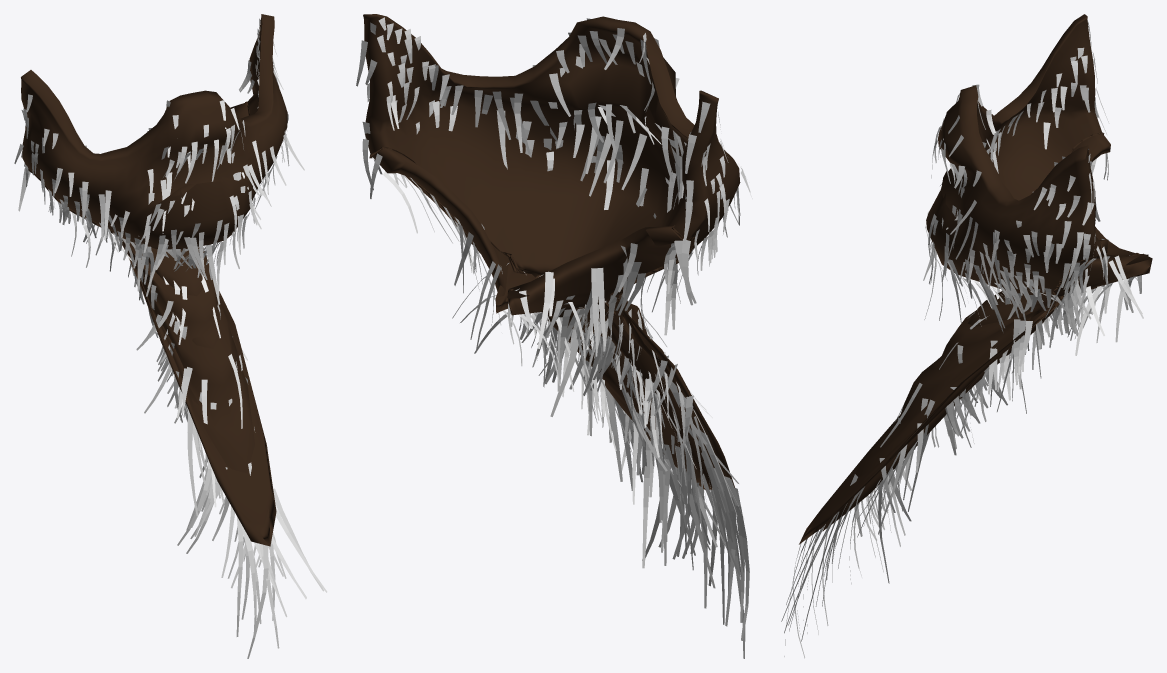
File: beard-huscarl-braided.glb
3 renders of one model, left to right at view 1: azimuth 30°, elevation 25°; view 2: azimuth 150°, elevation 25°; view 3: azimuth 270°, elevation 25°, orthographic. The views are drawn at different scales.
Parts seen in each view (by area): view 1: beard-huscarl-braided_1, beard__strands; view 2: beard-huscarl-braided_1, beard__strands; view 3: beard-huscarl-braided_1, beard__strands.
Boxes of the visible parts, left/top/right/bottom form: beard-huscarl-braided_1: left=21, top=14, right=287, bottom=546; beard__strands: left=14, top=18, right=327, bottom=658; beard-huscarl-braided_1: left=363, top=14, right=740, bottom=489; beard__strands: left=356, top=17, right=752, bottom=658; beard-huscarl-braided_1: left=799, top=14, right=1152, bottom=544; beard__strands: left=781, top=21, right=1143, bottom=658.
Bounding box in the file's own units: 0.1637 × 0.318 × 0.181.
